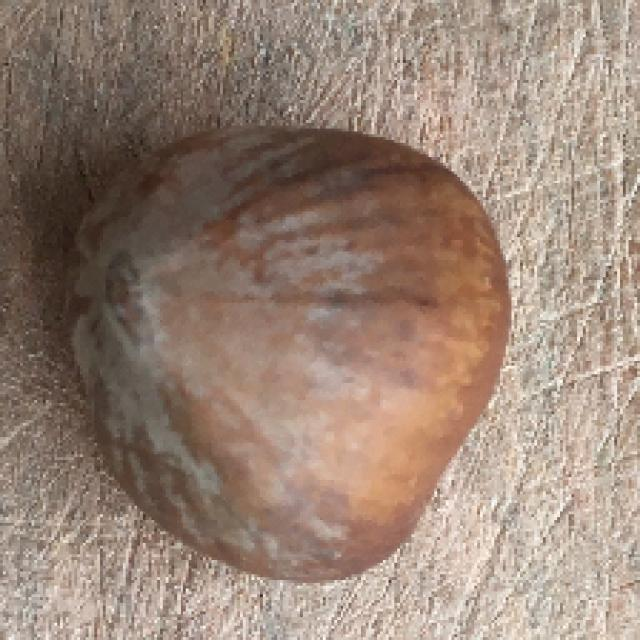qualityHazelnut: (39, 123, 508, 575)
